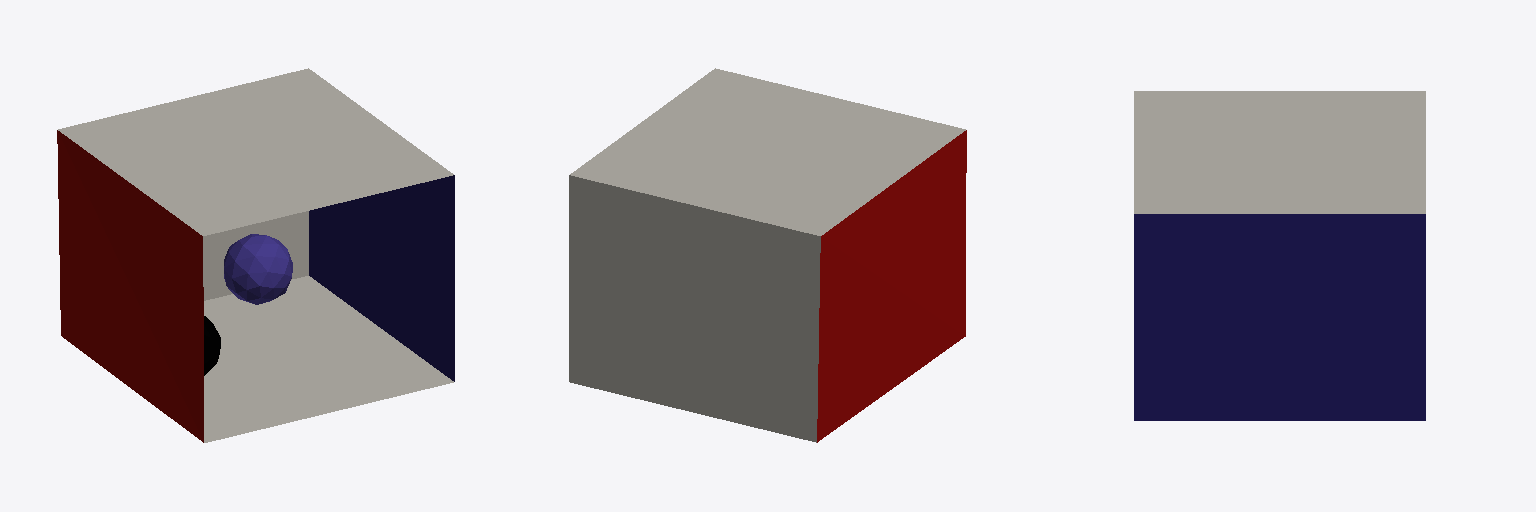
Rendered from CornellBox-Sphere-1158.obj.
3 views of the same model, side by side, from view 1: azimuth 30°, elevation 25°; view 2: azimuth 150°, elevation 25°; view 3: azimuth 270°, elevation 25° (orthographic).
Visible parts, largest first — view 1: ceiling, leftWall, floor, rightWall, leftSphere, backWall, rightSphere; view 2: backWall, ceiling, leftWall; view 3: rightWall, ceiling.
Part boxes in pixels (x1,y1,x2,y2): ceiling: (58, 68, 453, 235); leftWall: (57, 130, 203, 442); floor: (204, 276, 453, 442); rightWall: (309, 175, 454, 381); leftSphere: (224, 234, 292, 304); backWall: (203, 211, 308, 300); rightSphere: (204, 316, 220, 375); backWall: (569, 175, 820, 442); ceiling: (570, 68, 965, 235); leftWall: (817, 130, 966, 442); rightWall: (1134, 214, 1425, 420); ceiling: (1134, 91, 1425, 213).
Size of the model in its own units: 2.02 by 1.59 by 2.03.